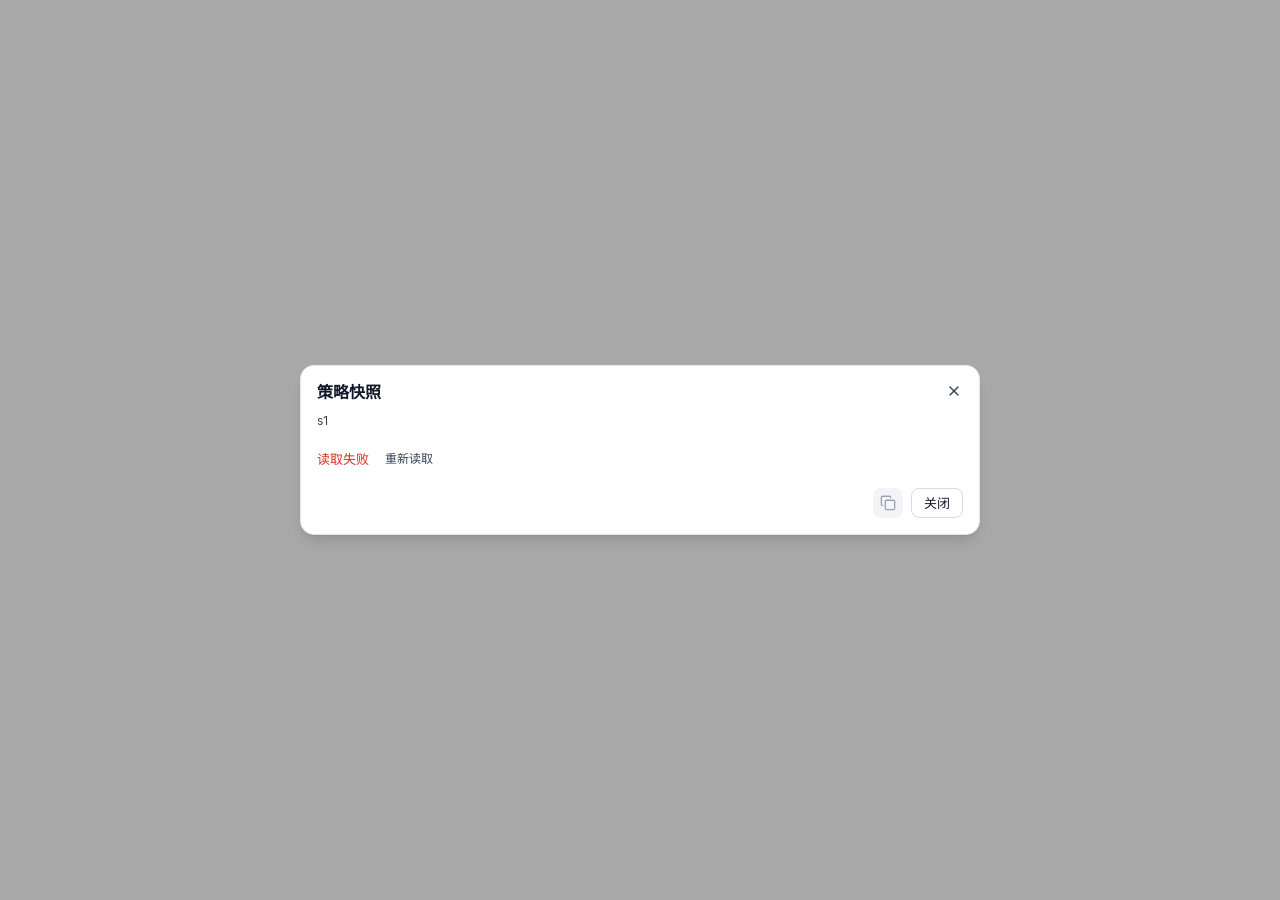
Test case: 读取失败可重试同一快照而不写入任何配置
The image size is (1280, 900).
expect the message reads "读取失败": met, box [317,451,369,467]
Click the button "重新读取".
click(409, 459)  # box [377,446,441,472]
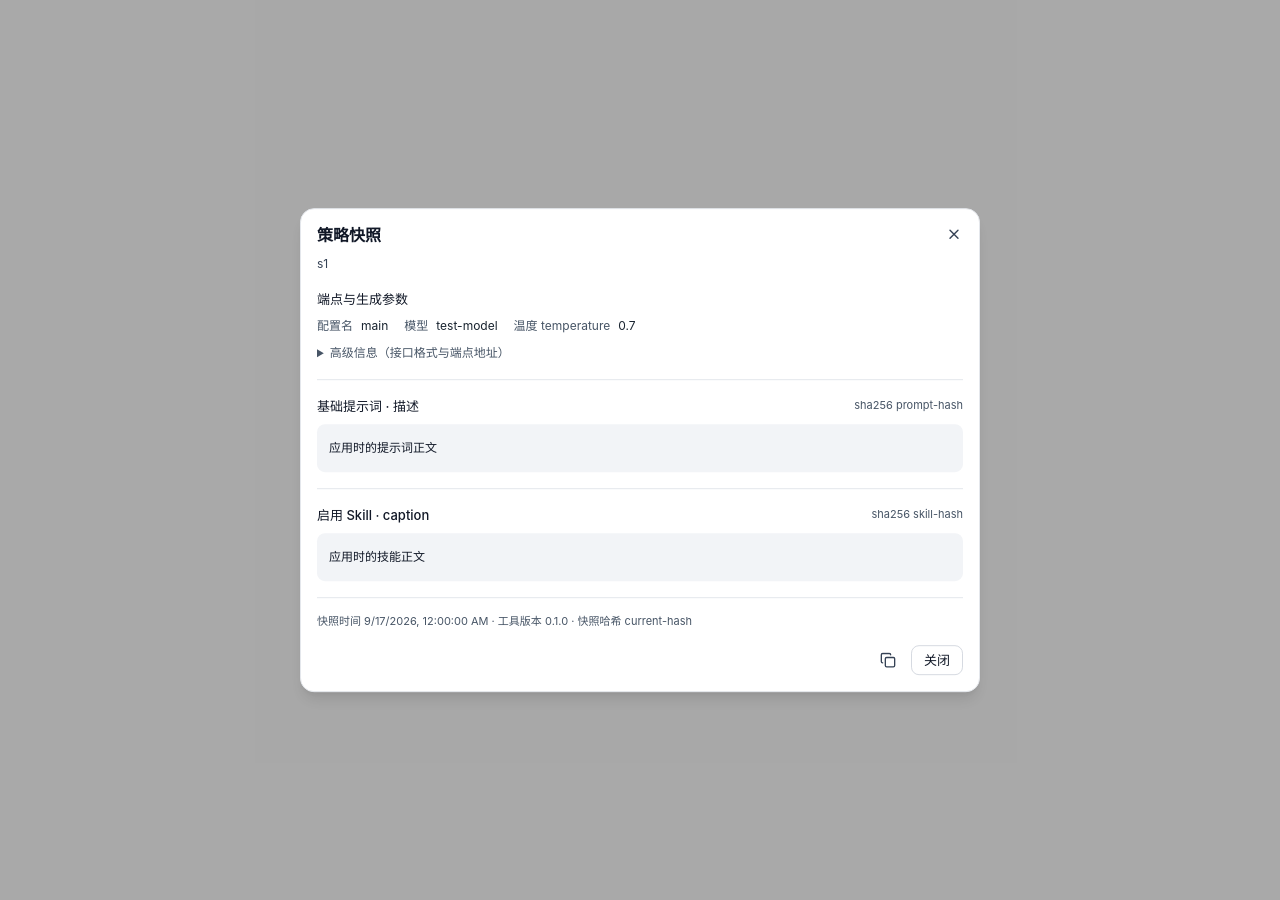
expect the text "应用时的提示词正文" is shown: met, box [317,424,963,472]
